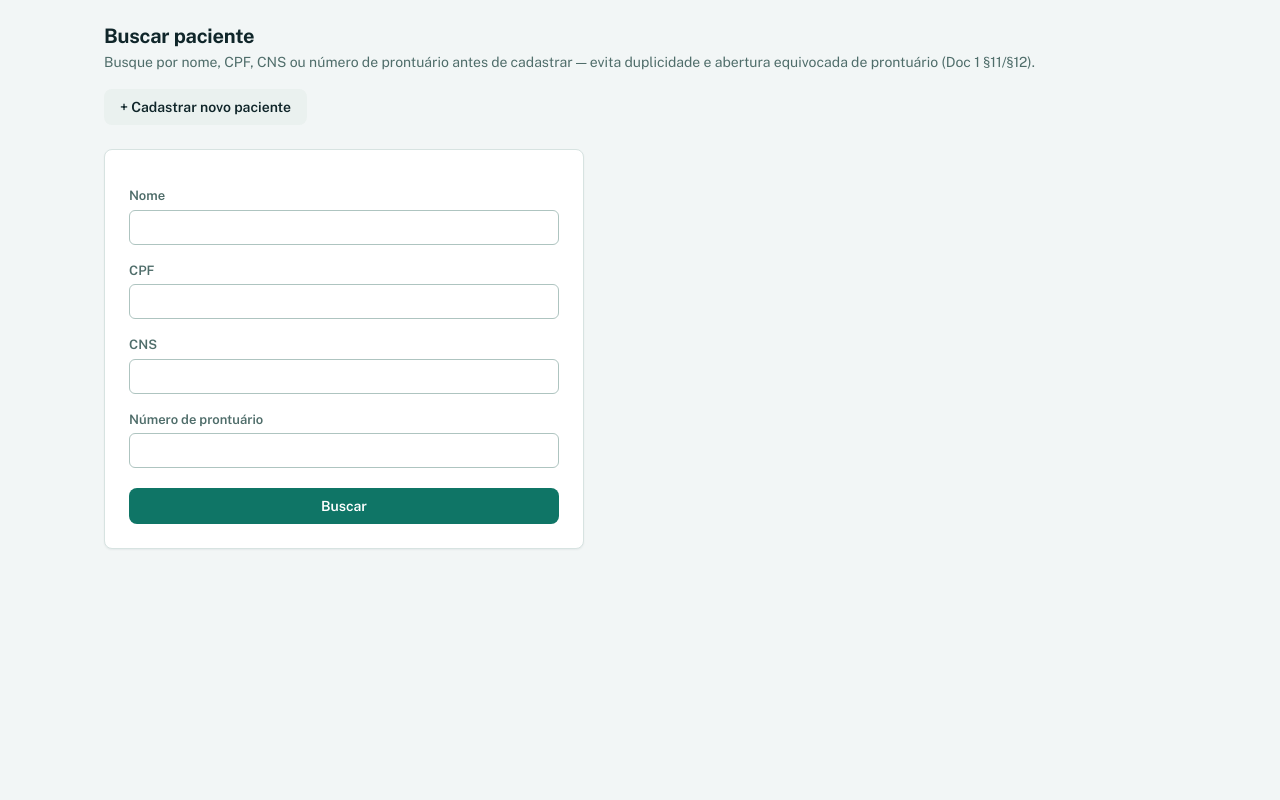
Test: PatientSearchPage › 14. busca por CNS retorna resultados
In the field labelled "CNS": (344,376) x1=129 y1=358 x2=559 y2=394, type "777082203934924"
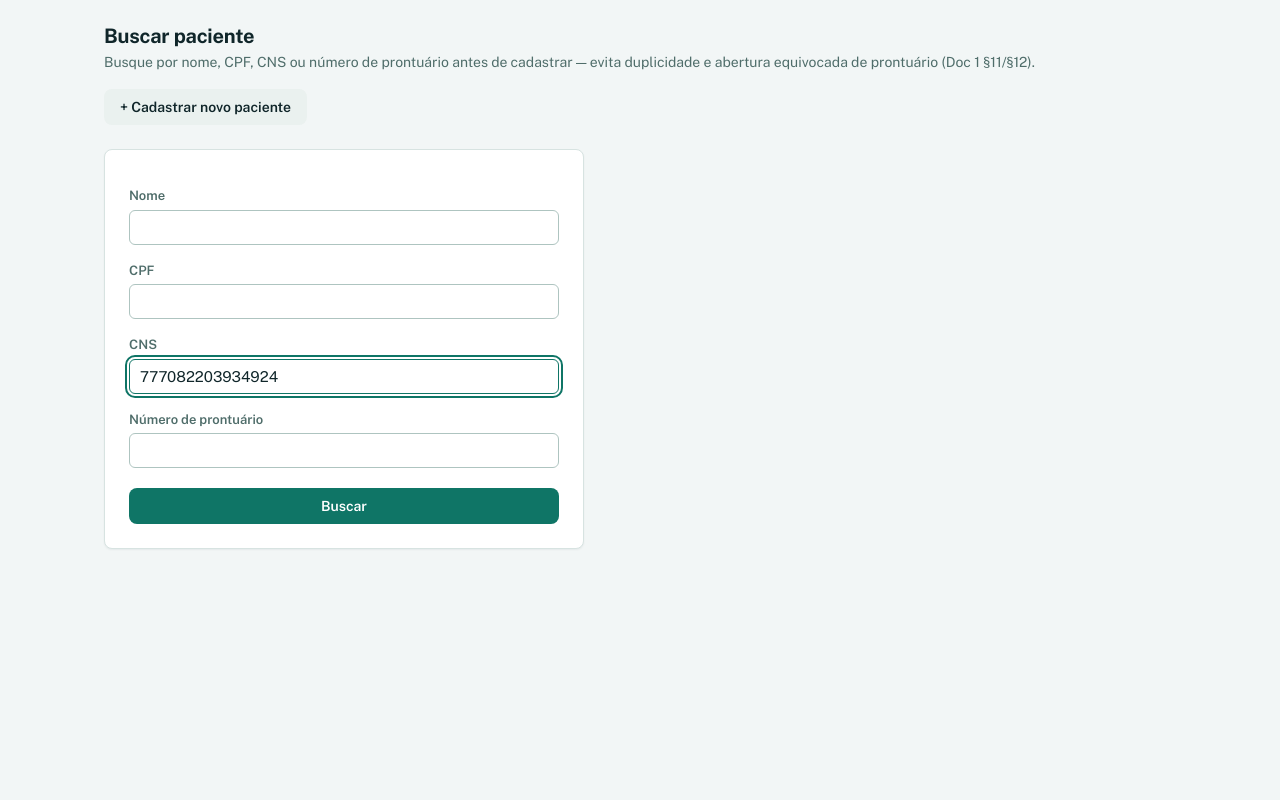
Click the button "Buscar": (344,506) x1=129 y1=488 x2=559 y2=524
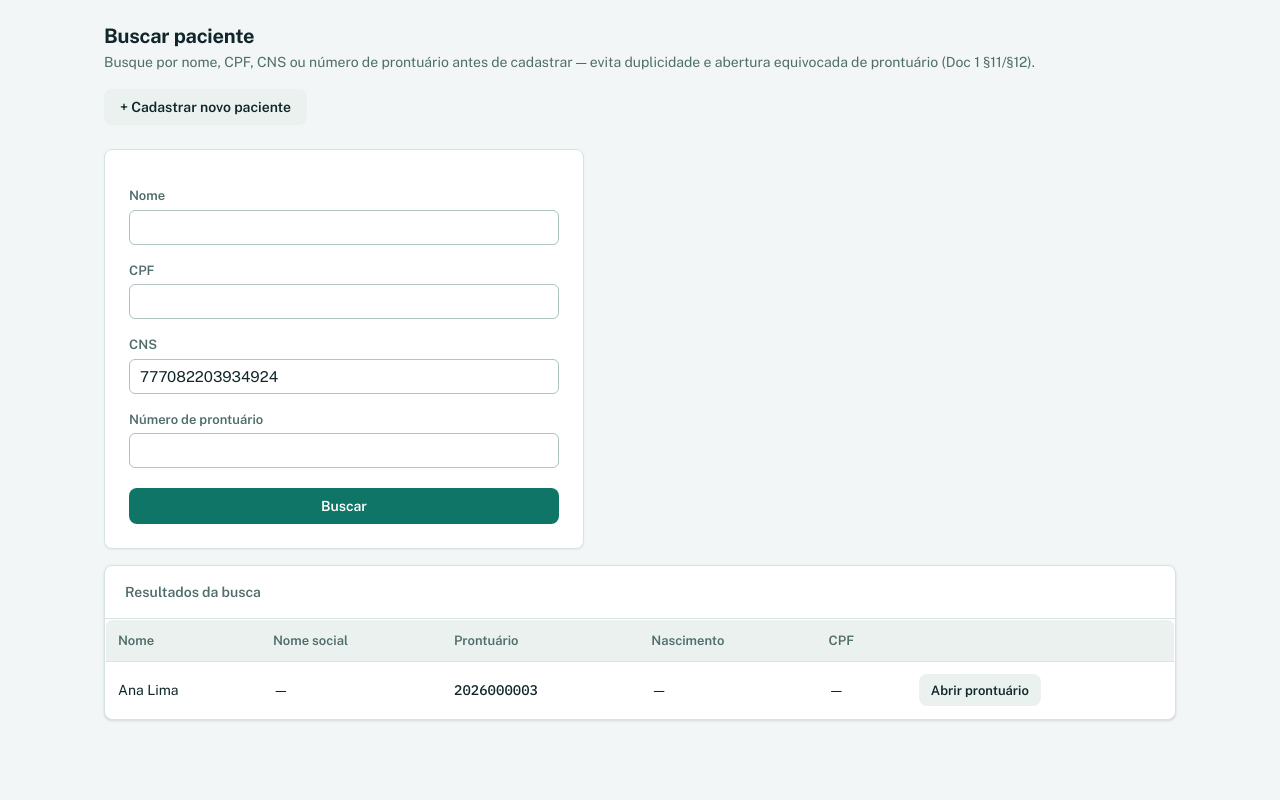
Expected: the text "Ana Lima" is shown, x1=106 y1=662 x2=261 y2=719
